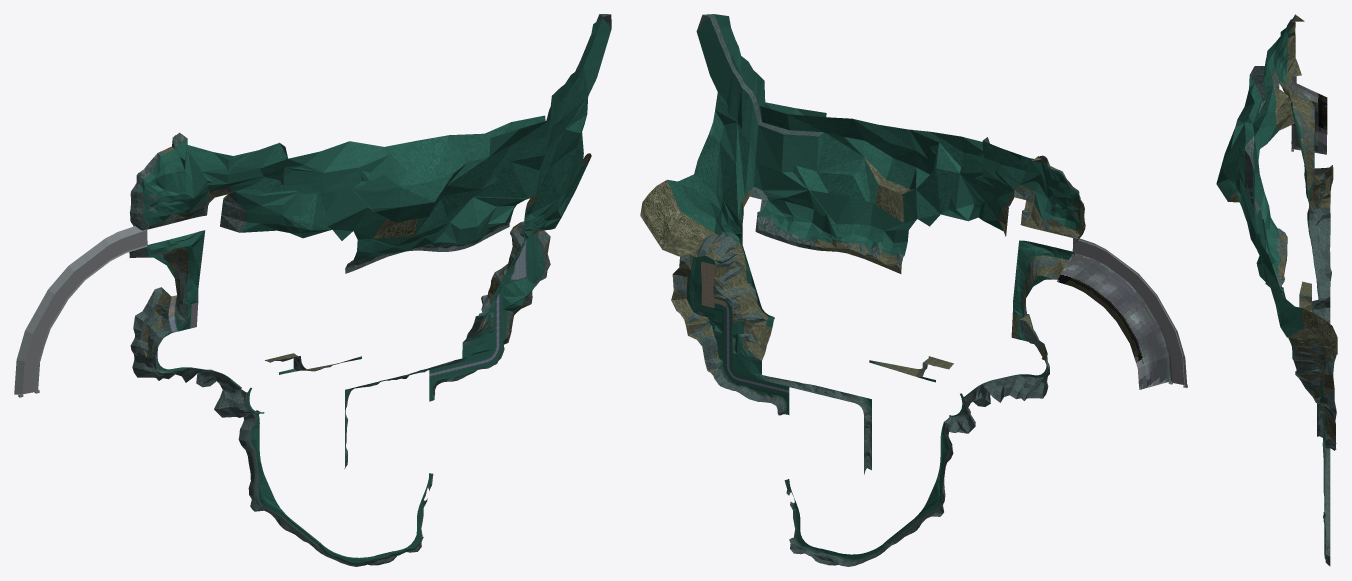
File: landne_landne__part_03.obj
3 views of the same model, side by side, from view 1: azimuth 30°, elevation 25°; view 2: azimuth 150°, elevation 25°; view 3: azimuth 270°, elevation 25° (orthographic). The views are drawn at different scales.
Parts seen in each view (by area): view 1: landne_landne__part_03; view 2: landne_landne__part_03; view 3: landne_landne__part_03.
Boxes of the visible parts, box(x1,y1,x2,y2) form: landne_landne__part_03: box(14, 14, 611, 566); landne_landne__part_03: box(640, 14, 1187, 566); landne_landne__part_03: box(1216, 14, 1337, 566).
Size of the model in its own units: 1203 by 1050 by 241.
96 materials, 96 textured.
